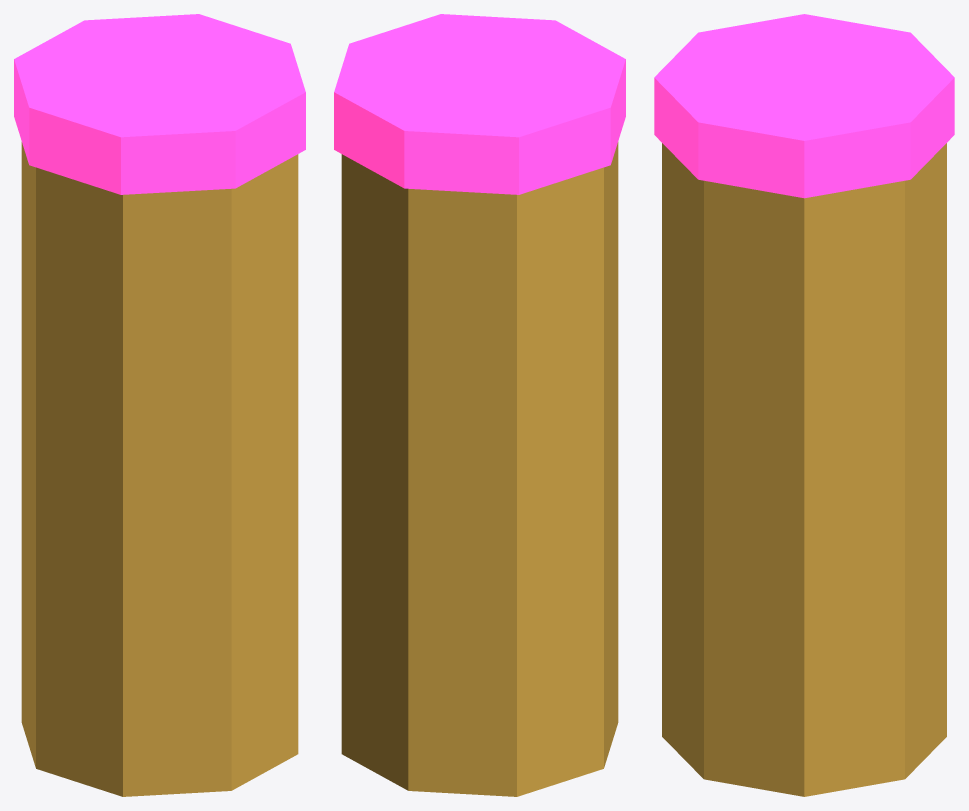
The model's file is street_003_seed100.glb.
The picture shows the model from 3 angles, left to right: view 1: azimuth 30°, elevation 25°; view 2: azimuth 150°, elevation 25°; view 3: azimuth 270°, elevation 25°; orthographic projection.
Parts seen in each view (by area): view 1: street_003_seed100; view 2: street_003_seed100; view 3: street_003_seed100.
Boxes of the visible parts, box(x1,y1,x2,y2) form: street_003_seed100: box(14, 14, 305, 796); street_003_seed100: box(334, 14, 625, 796); street_003_seed100: box(654, 14, 954, 796).
Size of the model in its own units: 0.38 by 0.92 by 0.38.
